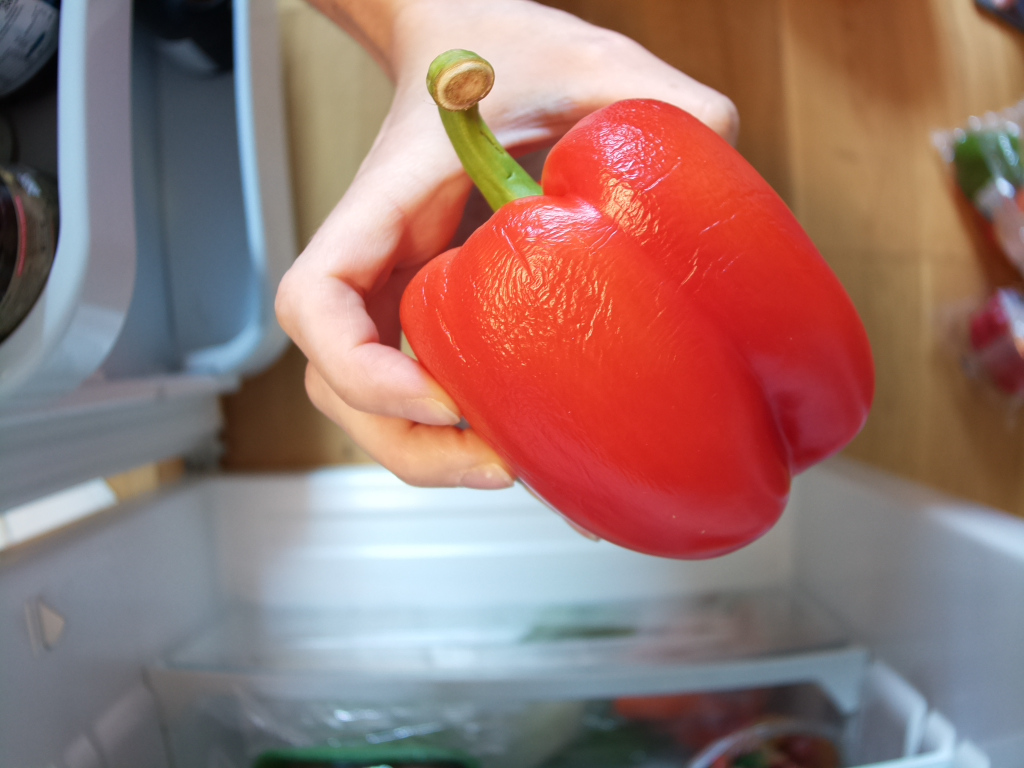pepper-bad: (390, 37, 883, 563)
